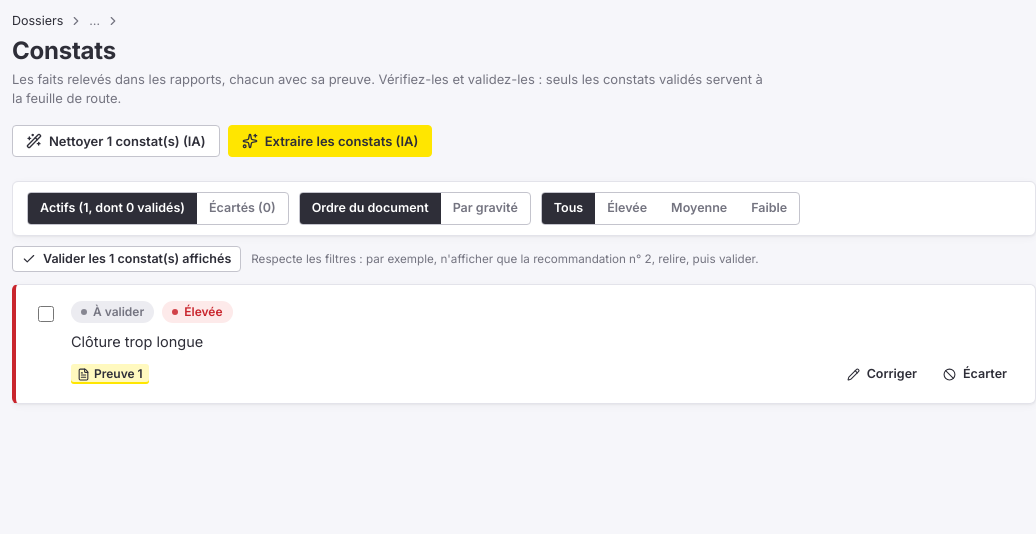
Test: page constats › corrige le texte d'un constat
Click the button "Corriger" at (882,374), box x1=837 y1=361 x2=927 y2=388
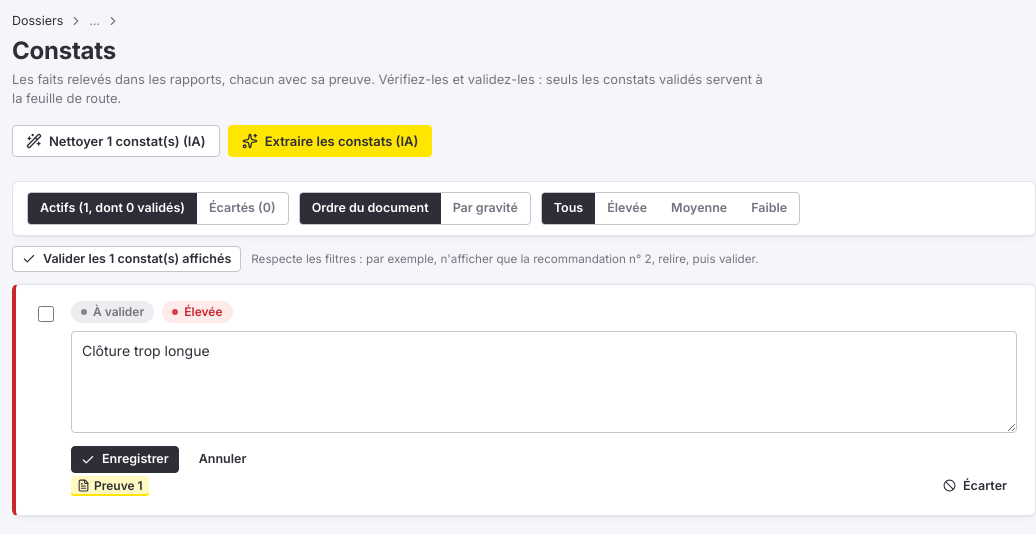
Replace the text in the text box named "Corriger" with "Clôture à 8 jours" at (544,382), box x1=71 y1=331 x2=1017 y2=433
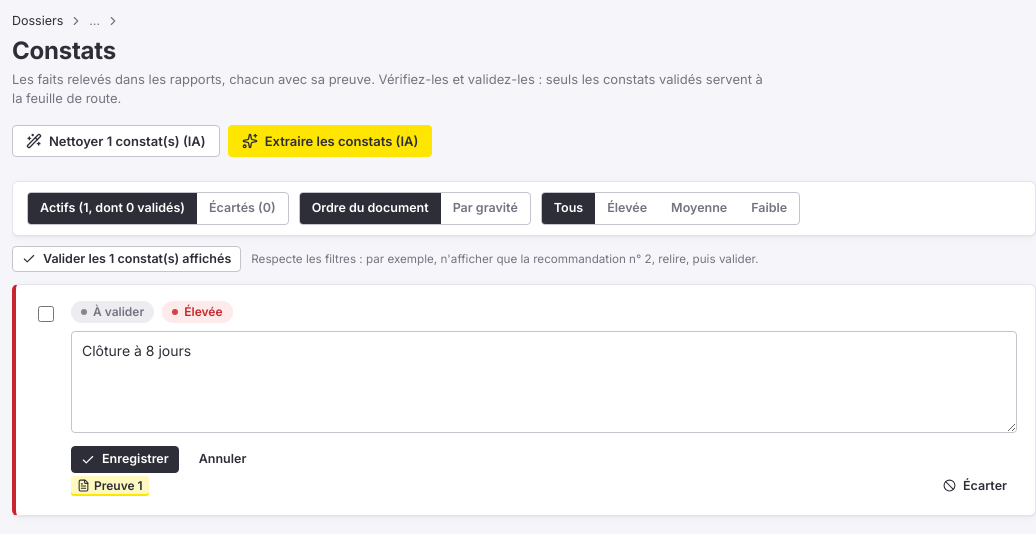
Click the button "Enregistrer" at (125,460), box x1=71 y1=446 x2=179 y2=473
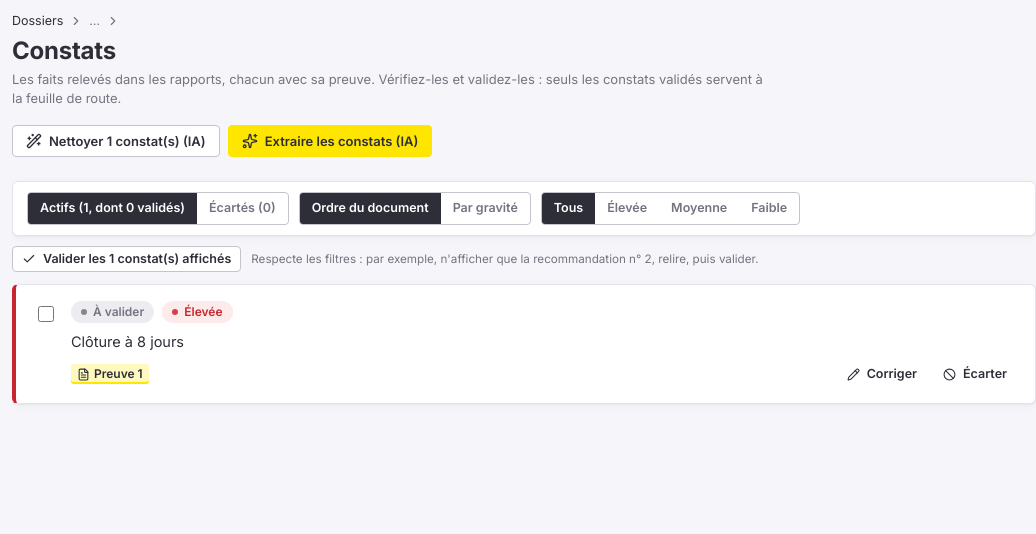
Expected: the text "Clôture à 8 jours" is shown, x1=71 y1=333 x2=184 y2=350
